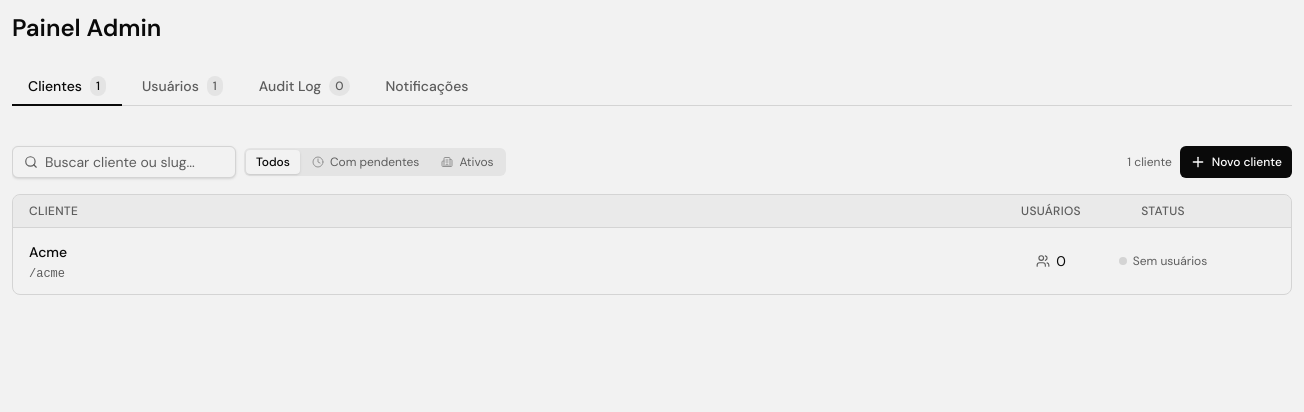
Test: AdminView — navegação de abas › clicar em Audit Log exibe o painel de audit
This screenshot has width=1304, height=412.
Click the tab "Audit Log 0" at (304, 87), box [243, 68, 366, 106]
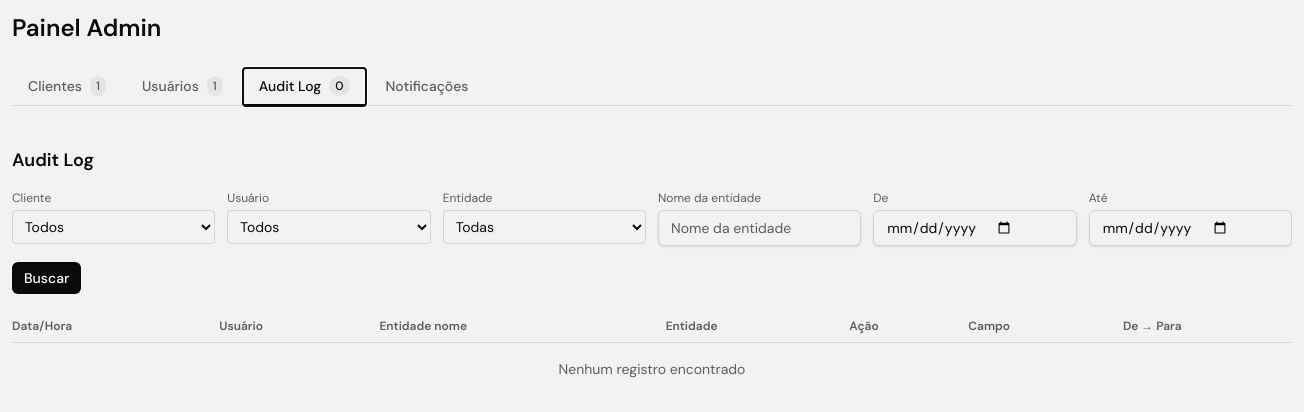
Expected: the panel "Audit" is shown, [12, 146, 1292, 395]
